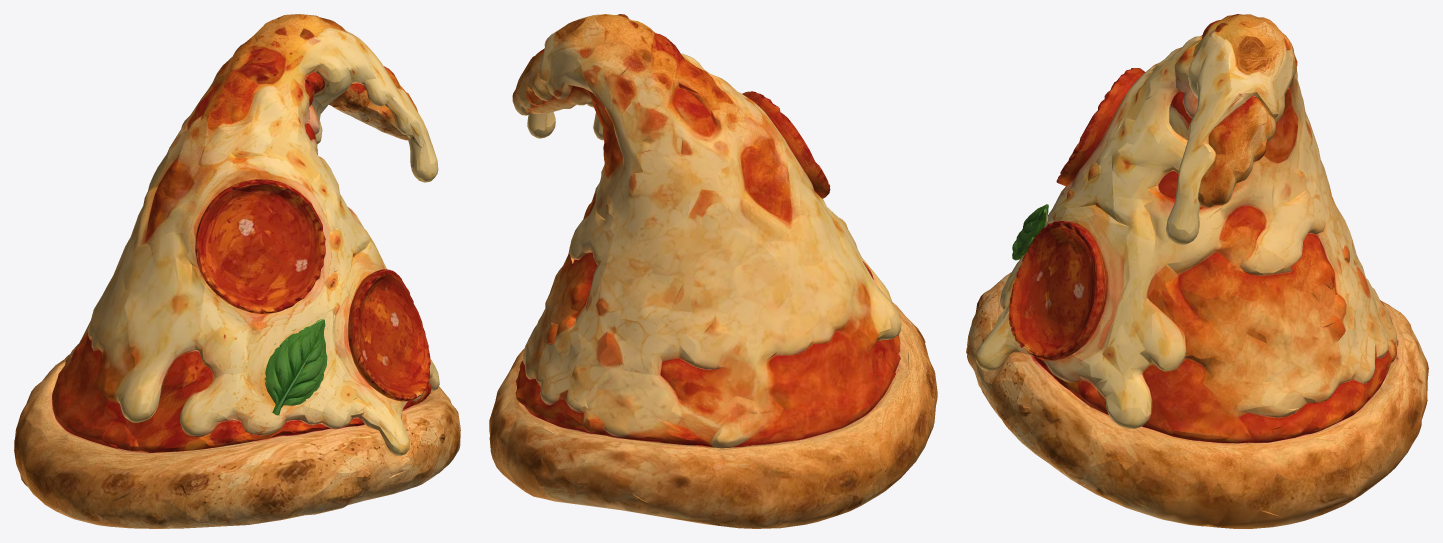
File: pizza_hat.glb
3 renders of one model, left to right at view 1: azimuth 30°, elevation 25°; view 2: azimuth 150°, elevation 25°; view 3: azimuth 270°, elevation 25°, orthographic. The views are drawn at different scales.
Visible parts, largest first — view 1: Mesh_0; view 2: Mesh_0; view 3: Mesh_0.
Boxes of the visible parts, x1=… form: Mesh_0: x1=14, y1=14, x2=460, y2=528; Mesh_0: x1=489, y1=14, x2=937, y2=528; Mesh_0: x1=966, y1=14, x2=1428, y2=528.
Bounding box in the file's own units: 0.913 × 1 × 0.8967.
1 material, 1 textured.
